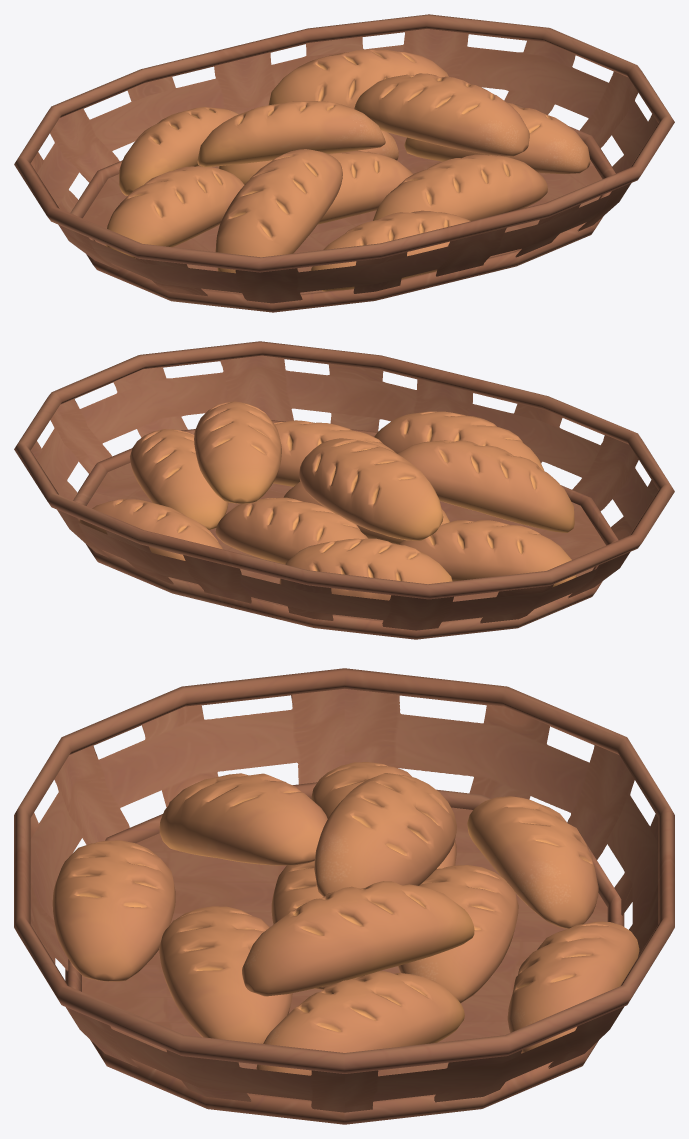
File: pie_basket_1.fbx
The picture shows the model from 3 angles, top to bottom: view 1: azimuth 30°, elevation 25°; view 2: azimuth 150°, elevation 25°; view 3: azimuth 270°, elevation 25°; orthographic projection. The views are drawn at different scales.
Visible parts, largest first — view 1: pies_in_a_basket.004; view 2: pies_in_a_basket.004; view 3: pies_in_a_basket.004.
Part boxes in pixels (box(x1,y1,x2,y2)): pies_in_a_basket.004: box(14, 14, 674, 312); pies_in_a_basket.004: box(14, 341, 674, 639); pies_in_a_basket.004: box(14, 668, 674, 1124).
Bounding box in the file's own units: 46.89 × 7.94 × 33.29.
